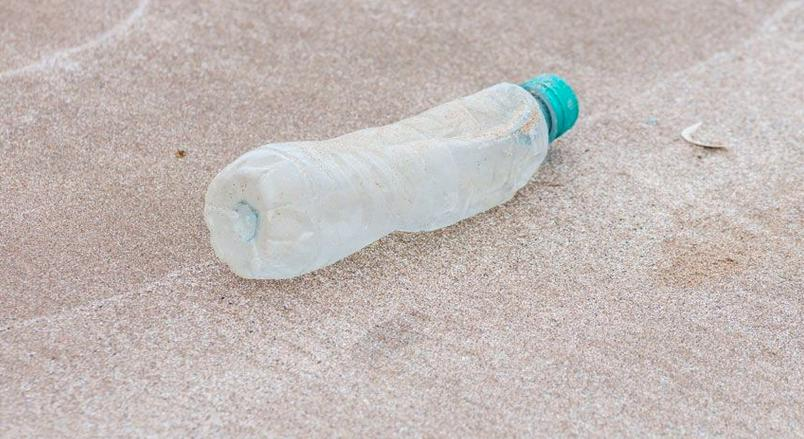Plastic: (200, 65, 583, 287)
